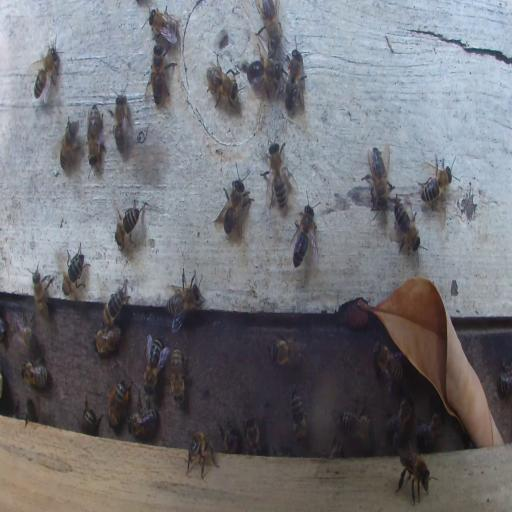bee: (214, 168, 256, 238), (164, 265, 206, 330), (259, 139, 297, 209), (291, 191, 319, 269), (396, 450, 435, 504), (282, 36, 308, 116), (418, 153, 454, 209), (362, 146, 394, 209), (392, 196, 422, 255), (204, 59, 239, 108), (32, 43, 60, 104), (184, 428, 218, 478), (113, 202, 146, 250), (142, 336, 168, 394), (147, 42, 170, 106), (386, 394, 414, 446), (267, 331, 306, 368), (29, 263, 53, 320), (339, 401, 372, 442), (101, 282, 130, 328), (63, 244, 88, 296), (109, 90, 129, 154), (86, 103, 104, 171), (374, 342, 404, 382), (106, 378, 130, 427), (147, 6, 179, 42), (60, 114, 78, 172), (256, 0, 280, 42), (290, 389, 308, 444), (416, 412, 443, 448), (128, 407, 158, 439), (246, 58, 280, 86), (170, 346, 185, 404), (21, 359, 49, 389), (11, 312, 34, 348), (93, 325, 121, 354), (244, 414, 261, 455), (80, 396, 98, 434), (220, 422, 239, 454), (499, 359, 511, 398), (329, 436, 344, 458), (25, 398, 38, 423)
